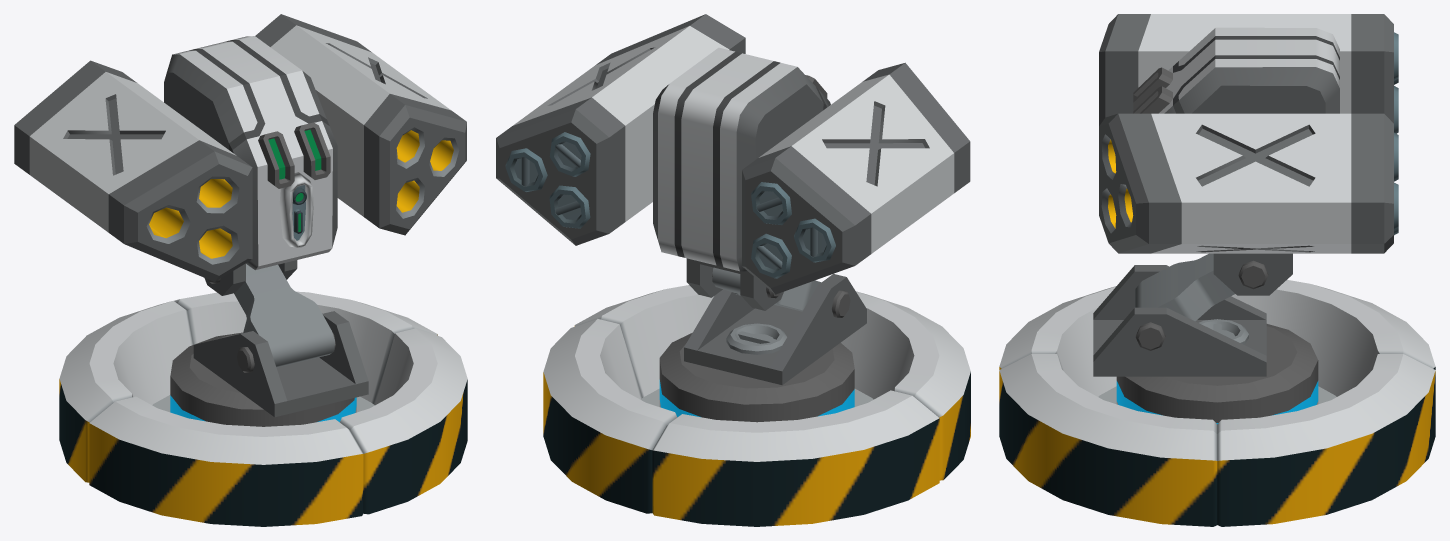
Rendered from Turret_011.glb.
The picture shows the model from 3 angles, left to right: view 1: azimuth 30°, elevation 25°; view 2: azimuth 150°, elevation 25°; view 3: azimuth 270°, elevation 25°; orthographic projection. The views are drawn at different scales.
Visible parts, largest first — view 1: Turret_011, Turret_011_barrel_001, Turret_011_body_001, Turret_011_barrel_002, Turret_011_body_002; view 2: Turret_011, Turret_011_barrel_001, Turret_011_body_001, Turret_011_barrel_002, Turret_011_cap_006, Turret_011_cap_001, Turret_011_cap_003, Turret_011_cap_004, Turret_011_cap_005, Turret_011_cap_002, Turret_011_body_002; view 3: Turret_011, Turret_011_barrel_002, Turret_011_body_001, Turret_011_barrel_001, Turret_011_body_002.
Boxes of the visible parts, x1,y1,x2,y2 form: Turret_011: (59,291,467,526); Turret_011_barrel_001: (14,60,252,281); Turret_011_body_001: (164,36,337,295); Turret_011_barrel_002: (255,14,466,235); Turret_011_body_002: (234,264,334,367); Turret_011: (543,274,970,526); Turret_011_barrel_001: (742,62,970,294); Turret_011_body_001: (653,47,830,310); Turret_011_barrel_002: (496,14,745,245); Turret_011_cap_006: (505,148,547,191); Turret_011_cap_001: (794,218,835,262); Turret_011_cap_003: (751,233,791,278); Turret_011_cap_004: (549,185,590,228); Turret_011_cap_005: (549,132,590,176); Turret_011_cap_002: (751,182,791,225); Turret_011_body_002: (712,267,821,311); Turret_011: (999,265,1435,526); Turret_011_barrel_002: (1099,113,1393,253); Turret_011_body_001: (1133,27,1339,295); Turret_011_barrel_001: (1099,14,1393,125); Turret_011_body_002: (1135,253,1234,321).
Size of the model in its own units: 1.73 by 1.7 by 1.73.
Materials: 2 (2 with a texture image).
